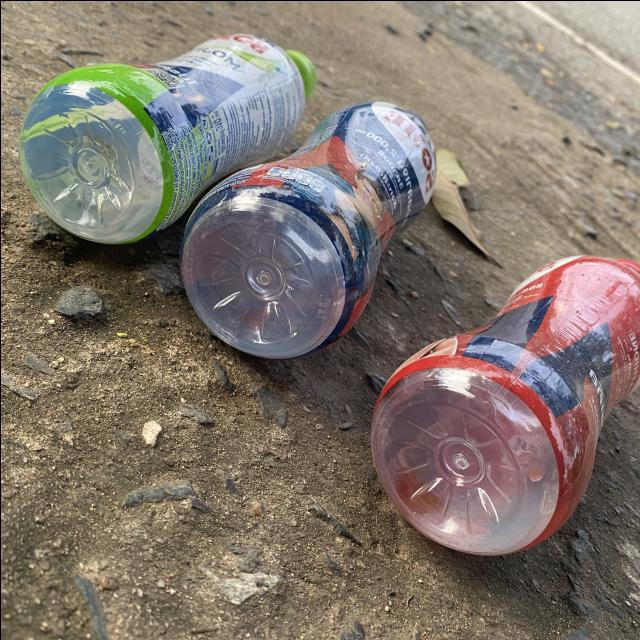plastik: (370, 255, 640, 554), (180, 101, 435, 358), (18, 32, 315, 242)
